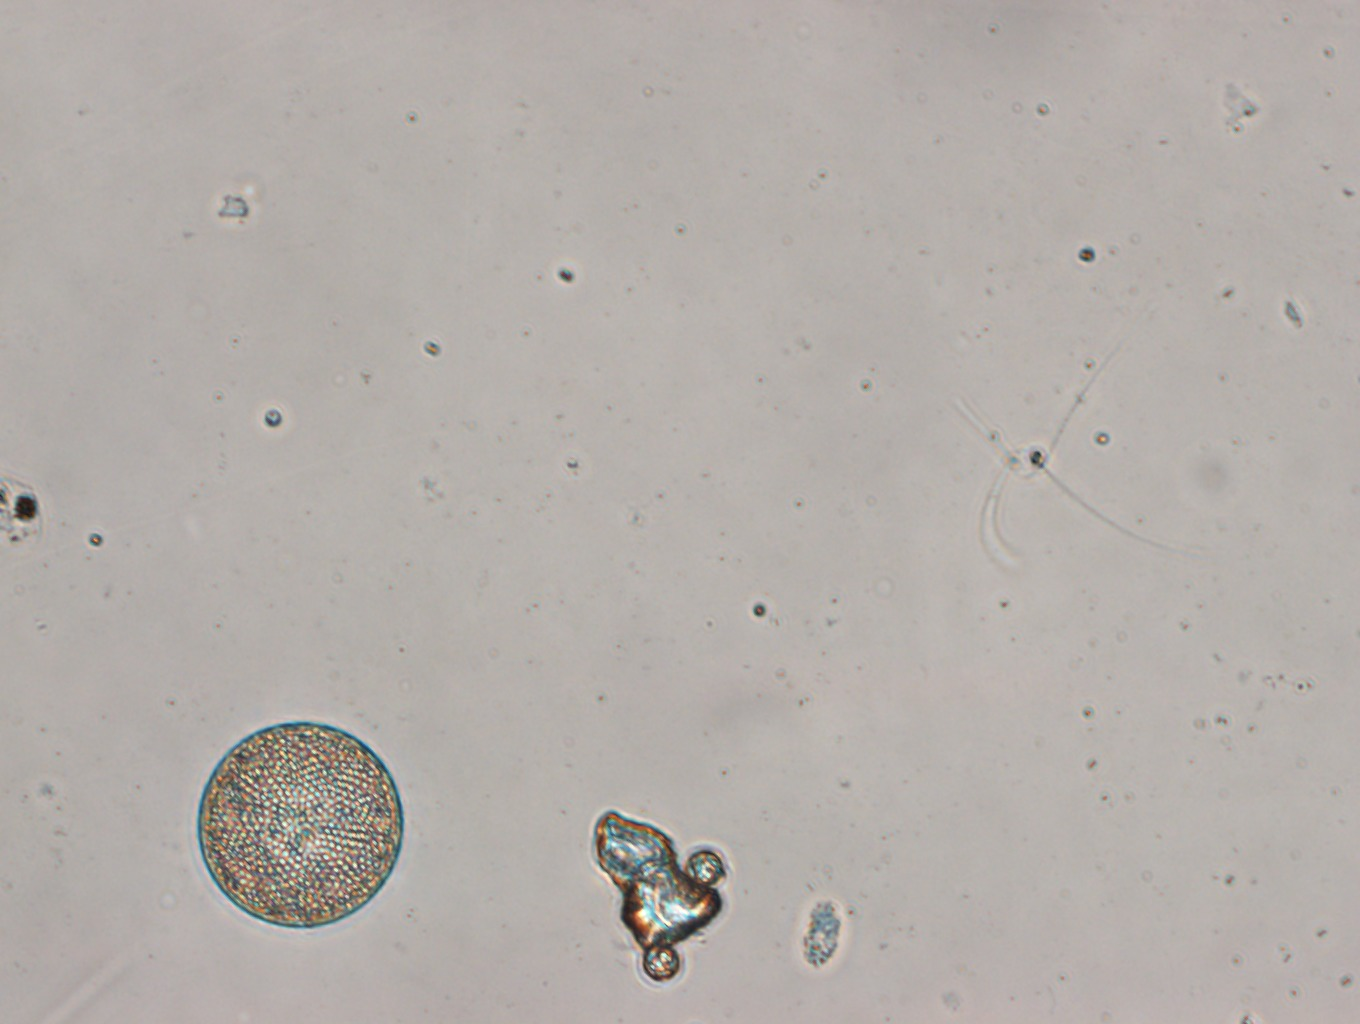coscinodiscus: (197, 720, 406, 933)
